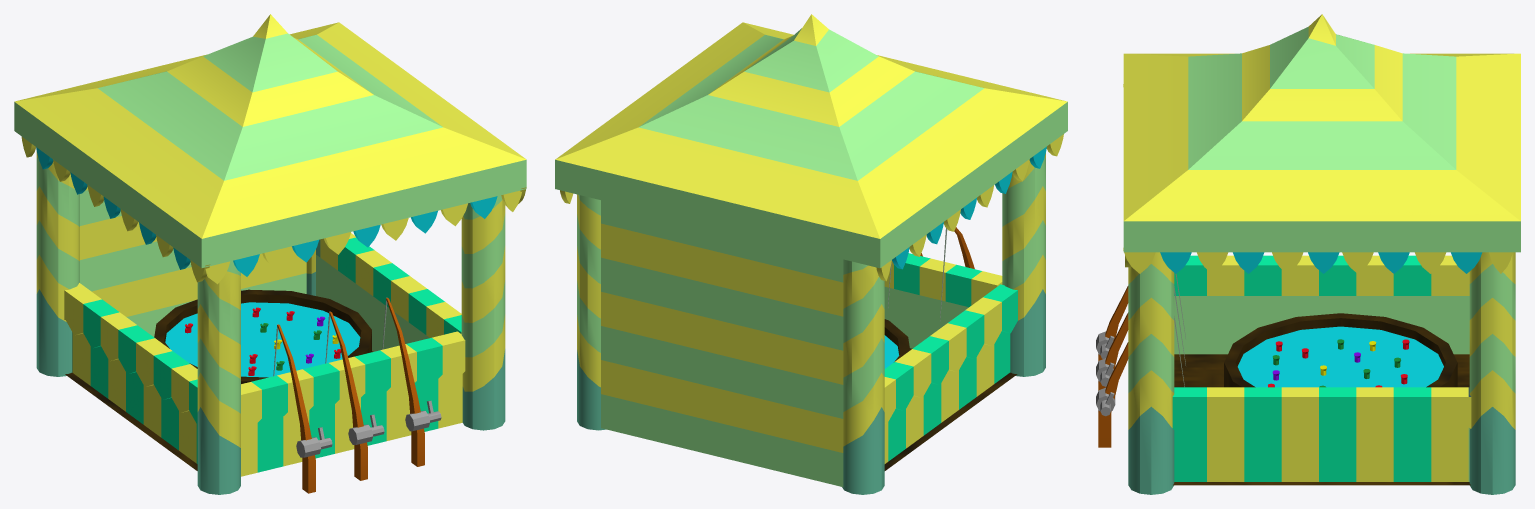
File: BarracaPesca.fbx
3 views of the same model, side by side, from view 1: azimuth 30°, elevation 25°; view 2: azimuth 150°, elevation 25°; view 3: azimuth 270°, elevation 25° (orthographic). The views are drawn at different scales.
Parts seen in each view (by area): view 1: BarraquinhaDePescaLOD0, Lago, VaraDePesca, BandeirasPesca; view 2: BarraquinhaDePescaLOD0, BandeirasPesca, Lago; view 3: BarraquinhaDePescaLOD0, Lago, BandeirasPesca, VaraDePesca.
Boxes of the visible parts, left/top/right/bottom form: BarraquinhaDePescaLOD0: left=14, top=14, right=526, bottom=494; Lago: left=154, top=289, right=371, bottom=383; VaraDePesca: left=273, top=297, right=441, bottom=493; BandeirasPesca: left=21, top=137, right=526, bottom=282; BarraquinhaDePescaLOD0: left=555, top=14, right=1067, bottom=494; BandeirasPesca: left=560, top=134, right=1063, bottom=281; Lago: left=884, top=319, right=910, bottom=368; BarraquinhaDePescaLOD0: left=1123, top=14, right=1520, bottom=494; Lago: left=1224, top=313, right=1457, bottom=387; BandeirasPesca: left=1123, top=84, right=1512, bottom=273; VaraDePesca: left=1096, top=274, right=1185, bottom=447.
Size of the model in its own units: 592 by 671 by 633.
1 material, 1 textured.
